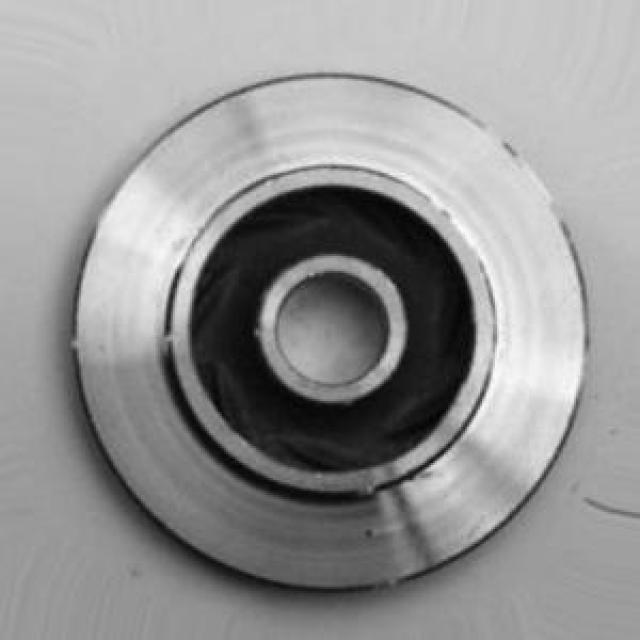Defect: (356, 518, 387, 552)
